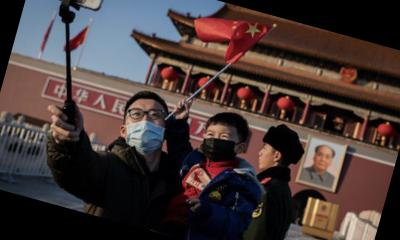with_mask: (119, 99, 173, 158), (198, 125, 241, 165)
without_mask: (255, 142, 277, 171)
